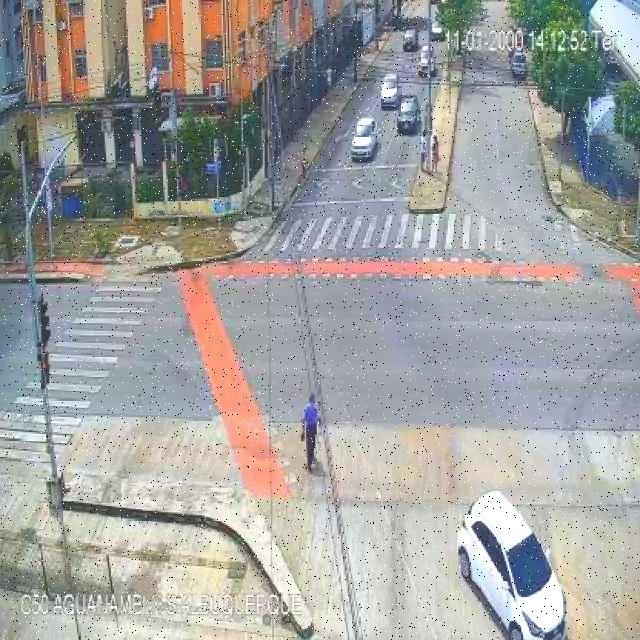Car: (457, 490, 568, 640), (349, 116, 378, 162), (395, 95, 420, 133), (378, 73, 402, 109), (417, 44, 436, 75), (510, 50, 527, 79), (401, 27, 420, 52), (428, 16, 444, 42)
